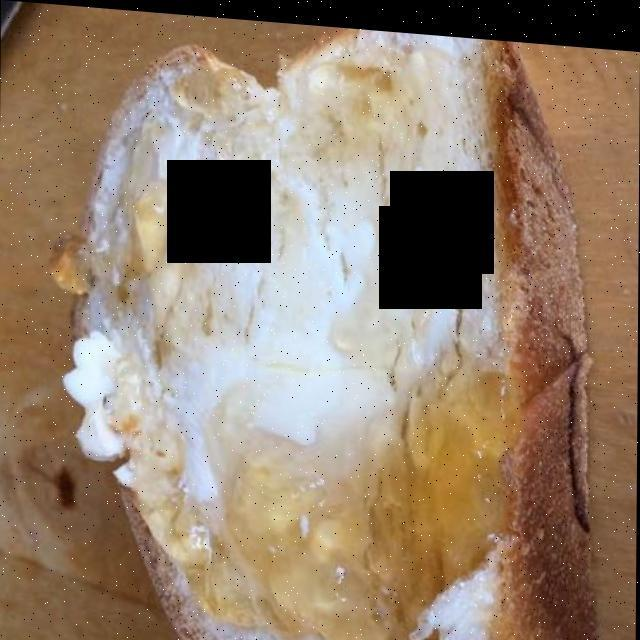bread: (62, 37, 583, 640)
butter: (67, 94, 477, 477)
jam: (48, 56, 547, 637)
